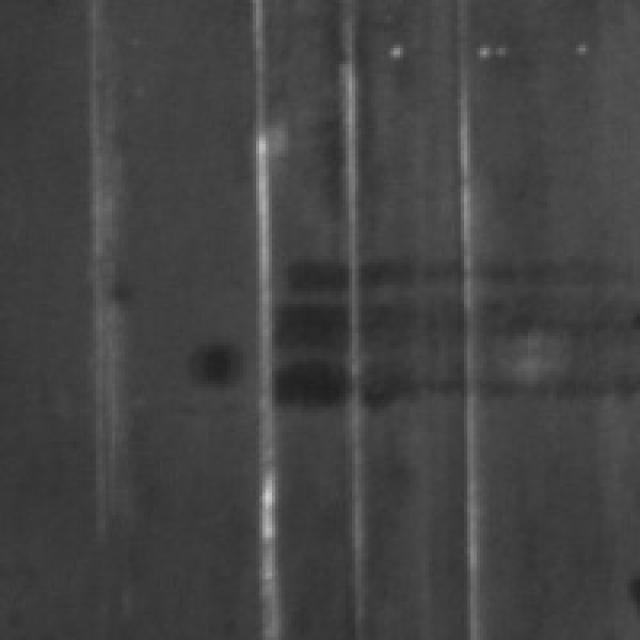inclusion: (266, 243, 640, 412)
scratches: (243, 9, 298, 634), (451, 6, 499, 634), (336, 3, 387, 534), (77, 29, 128, 534)
